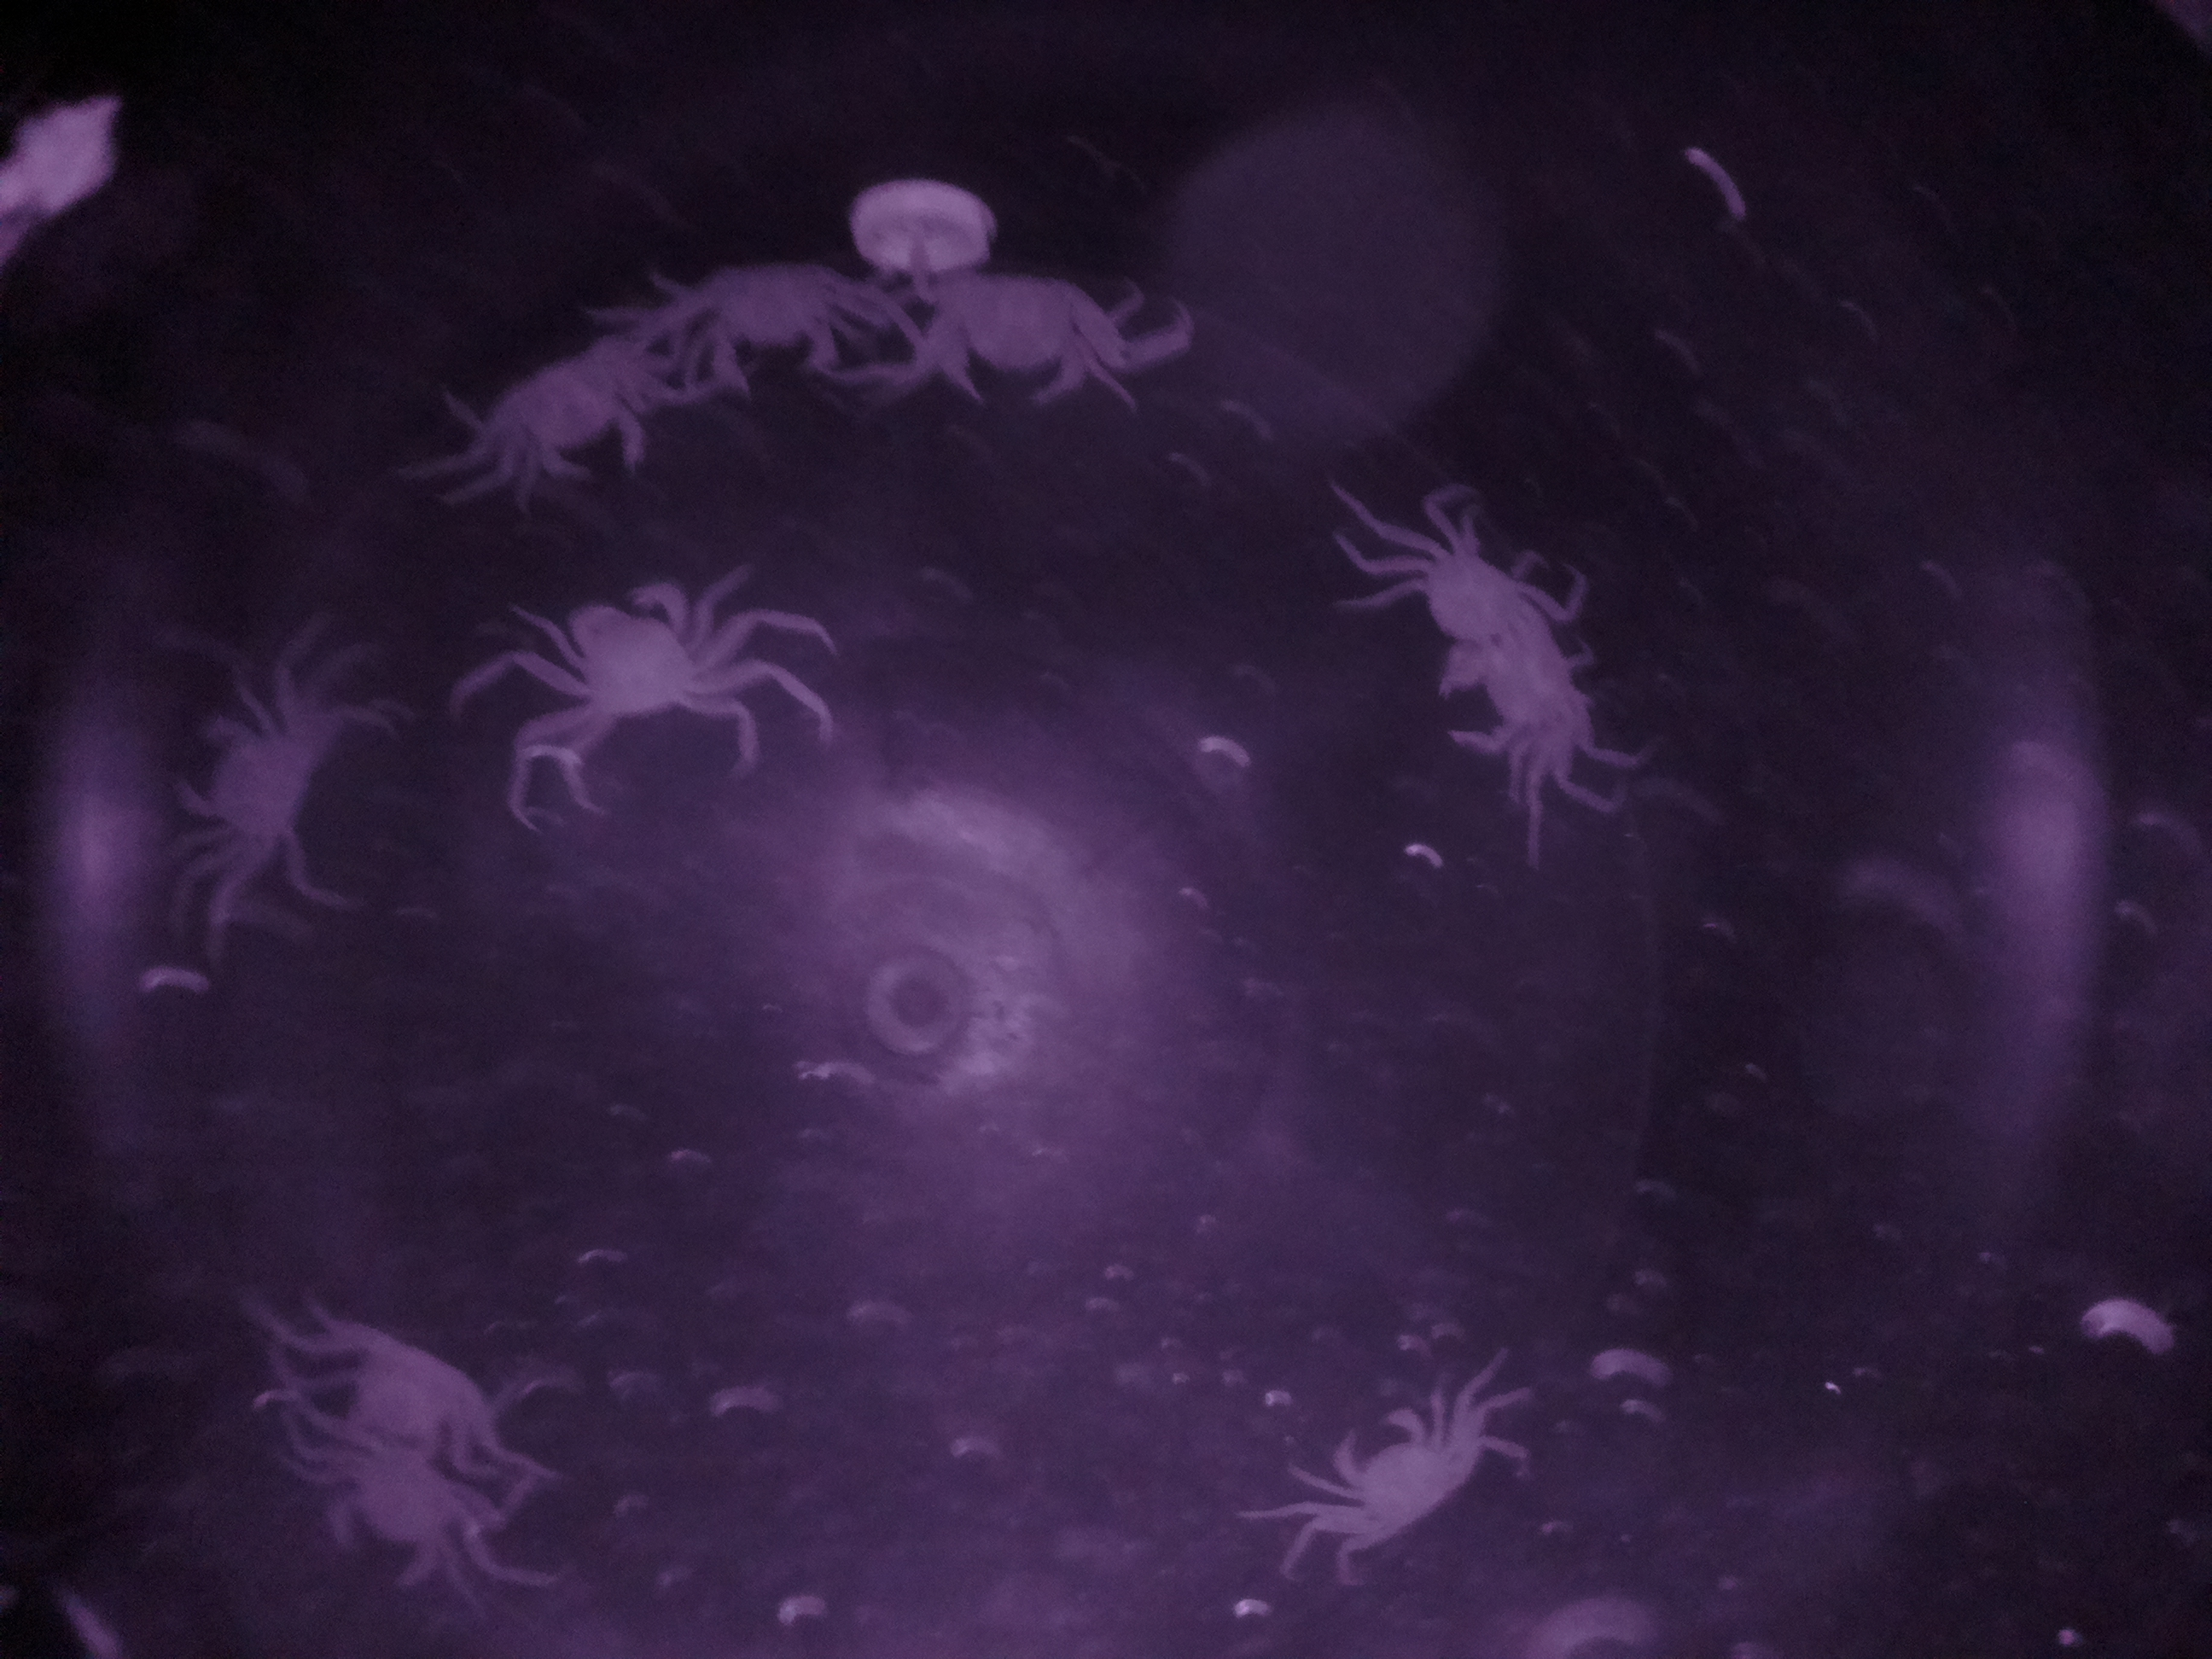Crab: (1287, 1385, 1487, 1567), (526, 568, 732, 741)
